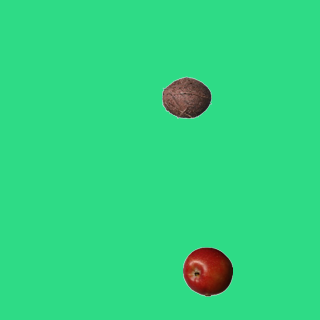Apple Braeburn: (182, 246, 232, 296)
Cocos: (161, 72, 211, 122)
